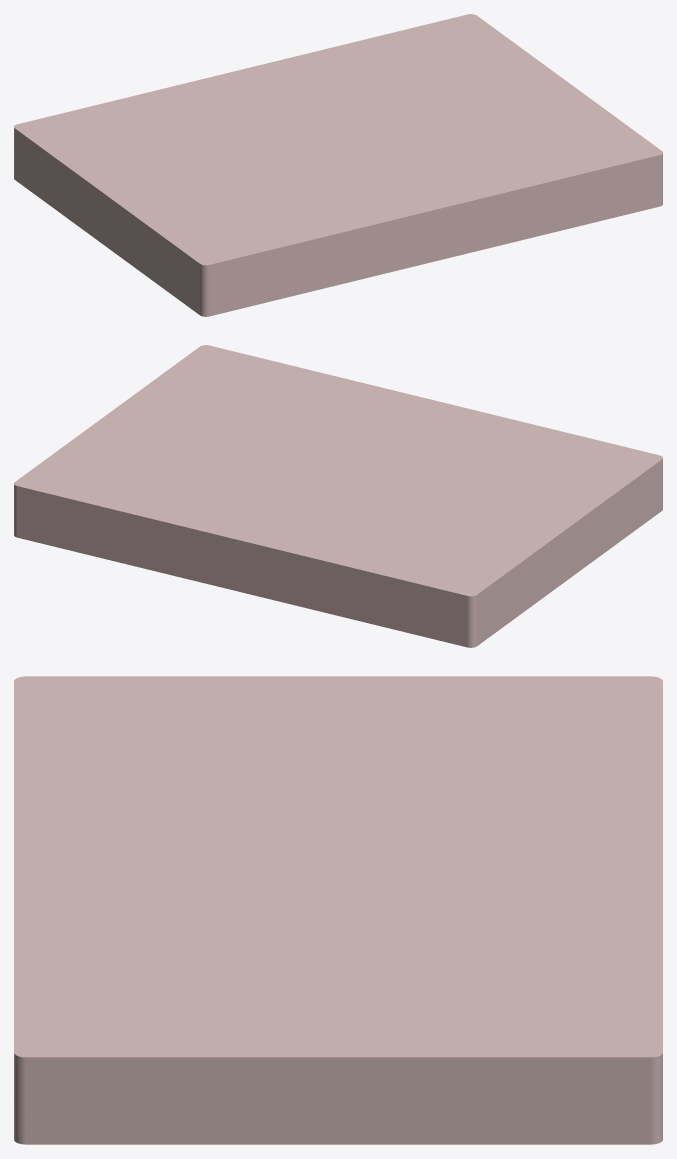
The model's file is OUTFITTING_INTERIOR__INT. FURNISHING__dbl mattress.glb.
3 renders of one model, top to bottom at view 1: azimuth 30°, elevation 25°; view 2: azimuth 150°, elevation 25°; view 3: azimuth 270°, elevation 25°, orthographic. The views are drawn at different scales.
Visible parts, largest first — view 1: dbl mattress; view 2: dbl mattress; view 3: dbl mattress.
Part boxes in pixels (x1=…): dbl mattress: x1=14, y1=14, x2=662, y2=316; dbl mattress: x1=14, y1=345, x2=662, y2=647; dbl mattress: x1=14, y1=676, x2=662, y2=1144.
Bounding box in the file's own units: 1.91 × 0.2032 × 1.37.
